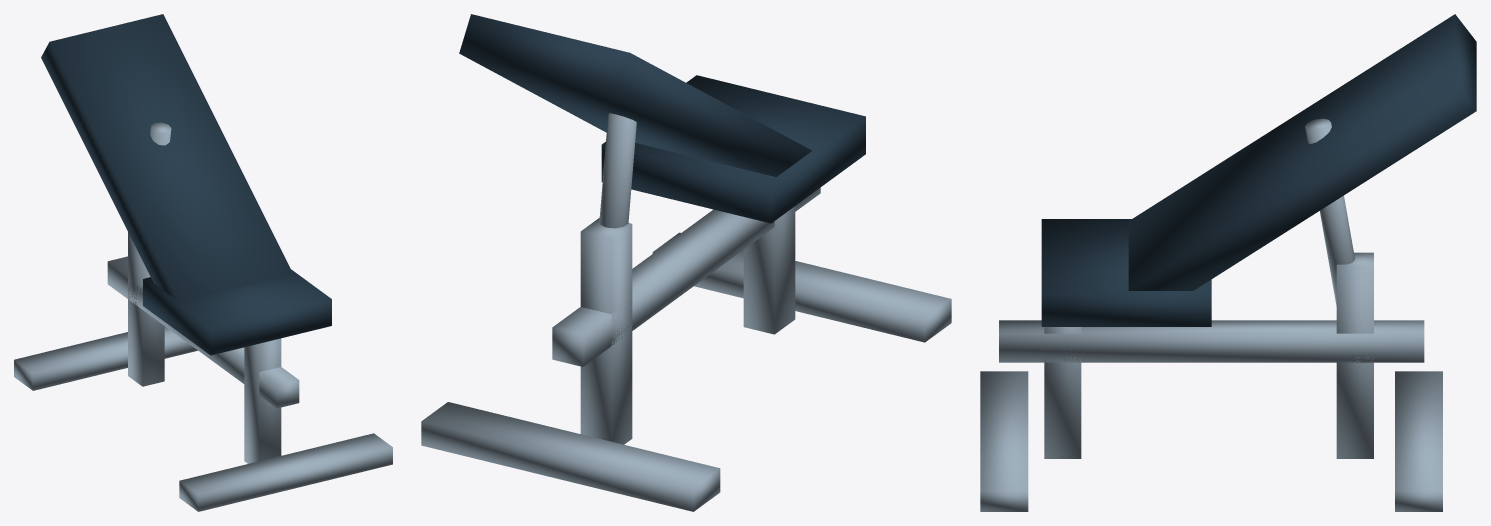
File: bench_adjustable.glb
The picture shows the model from 3 angles, left to right: view 1: azimuth 30°, elevation 25°; view 2: azimuth 150°, elevation 25°; view 3: azimuth 270°, elevation 25°; orthographic projection. The views are drawn at different scales.
Visible parts, largest first — view 1: backrest, frame, seat; view 2: frame, backrest, seat, adjustment_support; view 3: frame, backrest, seat, adjustment_support.
Boxes of the visible parts, <box> form: backrest: <box>41,14,293,302</box>; frame: <box>14,232,392,511</box>; seat: <box>143,269,331,355</box>; frame: <box>421,187,951,511</box>; backrest: <box>459,14,811,176</box>; seat: <box>601,75,865,223</box>; adjustment_support: <box>599,113,636,228</box>; frame: <box>980,252,1442,511</box>; backrest: <box>1128,14,1476,290</box>; seat: <box>1041,219,1211,326</box>; adjustment_support: <box>1305,118,1354,305</box>.
Bounding box in the file's own units: 0.53 × 0.8377 × 0.9331.
